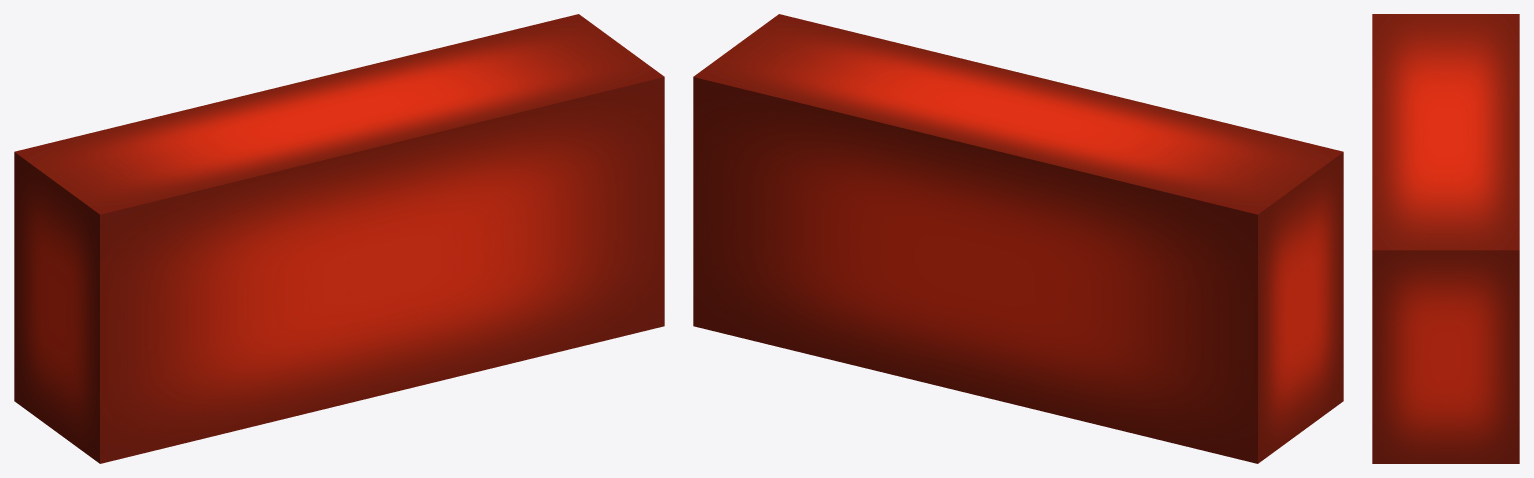
Rendered from block1.glb.
3 renders of one model, left to right at view 1: azimuth 30°, elevation 25°; view 2: azimuth 150°, elevation 25°; view 3: azimuth 270°, elevation 25°, orthographic. The views are drawn at different scales.
Visible parts, largest first — view 1: Object_6, Object_1, Object_3; view 2: Object_4, Object_1, Object_3; view 3: Object_1, Object_5.
Part boxes in pixels (<box>): Object_6: <box>100,77,664,463</box>; Object_1: <box>14,14,664,214</box>; Object_3: <box>14,152,99,463</box>; Object_4: <box>693,77,1257,463</box>; Object_1: <box>693,14,1343,214</box>; Object_3: <box>1258,152,1343,463</box>; Object_1: <box>1372,14,1519,250</box>; Object_5: <box>1372,250,1519,463</box>.
Bounding box in the file's own units: 1.45 × 0.6096 × 0.381.
Materials: 1 (1 with a texture image).
